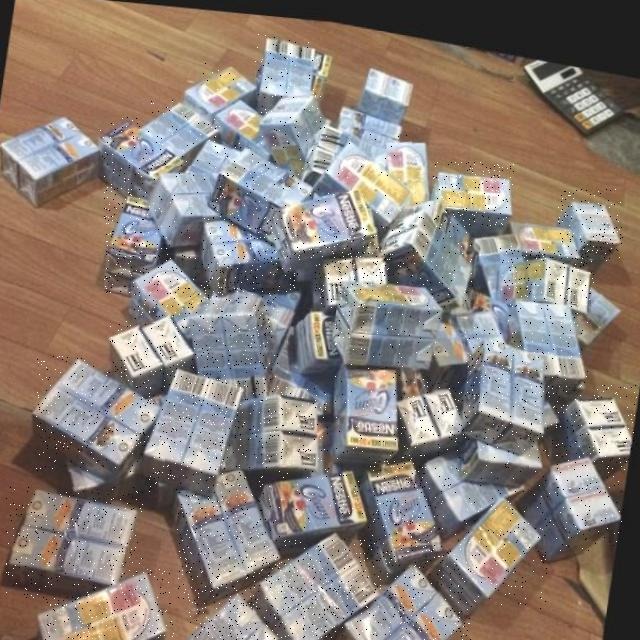paper: (254, 525, 387, 639), (7, 487, 143, 598), (37, 356, 165, 472), (178, 464, 287, 599), (434, 487, 547, 609), (149, 364, 248, 492), (338, 555, 471, 640), (524, 445, 626, 552), (465, 326, 549, 445), (211, 142, 315, 236), (366, 451, 449, 567), (335, 273, 446, 359), (44, 568, 174, 640), (382, 202, 474, 302), (1, 115, 101, 206), (314, 135, 412, 227), (428, 441, 529, 529), (193, 291, 278, 392), (225, 388, 328, 471), (276, 182, 379, 265), (264, 463, 373, 540), (508, 289, 590, 383), (204, 214, 299, 292), (548, 385, 637, 467), (335, 357, 403, 461), (104, 193, 172, 293), (100, 118, 185, 197), (141, 98, 220, 169), (151, 166, 223, 242), (132, 256, 212, 323), (189, 588, 291, 640), (260, 89, 325, 170), (434, 162, 514, 227), (400, 379, 468, 453), (501, 246, 594, 300), (559, 190, 623, 261), (257, 32, 315, 109), (146, 312, 202, 391), (316, 248, 388, 308), (110, 321, 168, 395), (184, 62, 258, 119)
